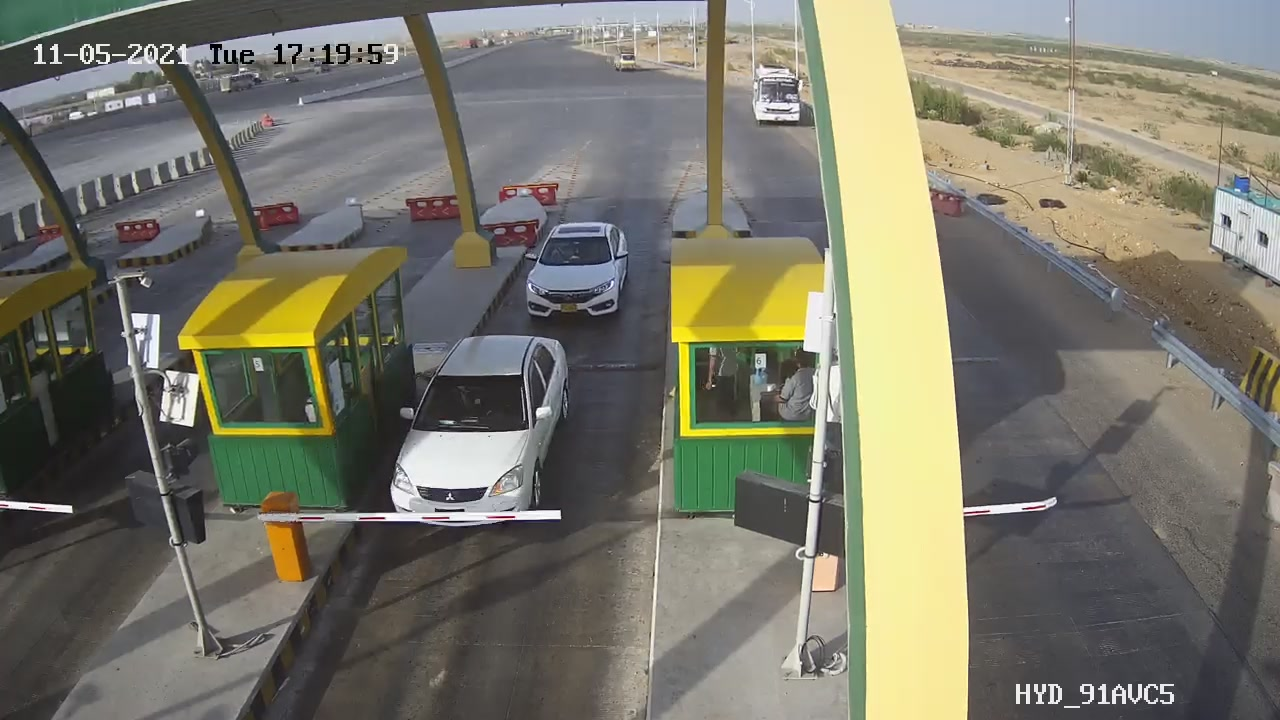F1: (374, 320, 594, 544), (512, 211, 643, 333)
